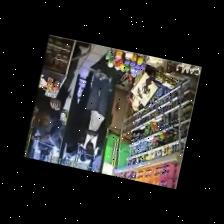person: (35, 59, 77, 127), (79, 68, 108, 159), (64, 71, 92, 155), (39, 146, 51, 160), (77, 145, 85, 160), (92, 148, 101, 159)
